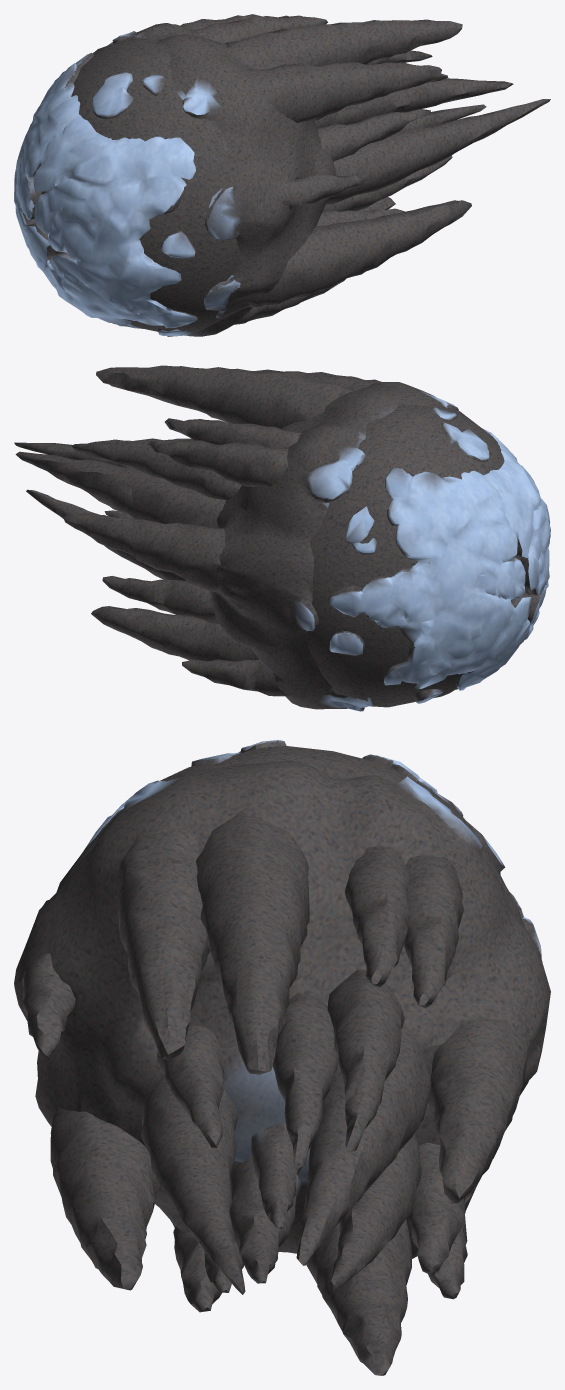
The model's file is Comet.glb.
3 views of the same model, one above another, from view 1: azimuth 30°, elevation 25°; view 2: azimuth 150°, elevation 25°; view 3: azimuth 270°, elevation 25° (orthographic). The views are drawn at different scales.
Visible parts, largest first — view 1: Comet; view 2: Comet; view 3: Comet.
Boxes of the visible parts, bbox=[...] form: Comet: bbox=[14, 14, 550, 336]; Comet: bbox=[14, 365, 550, 711]; Comet: bbox=[14, 740, 550, 1375].
Size of the model in its own units: 1.39 by 0.748 by 0.7624.
1 material, 1 textured.
